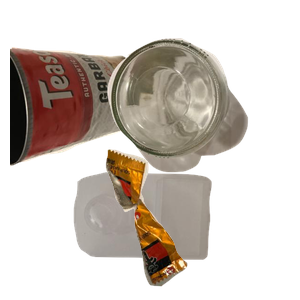glass: (105, 36, 300, 201)
metal: (10, 44, 151, 203)
plastic: (71, 169, 275, 300)
trash: (103, 147, 300, 300)
